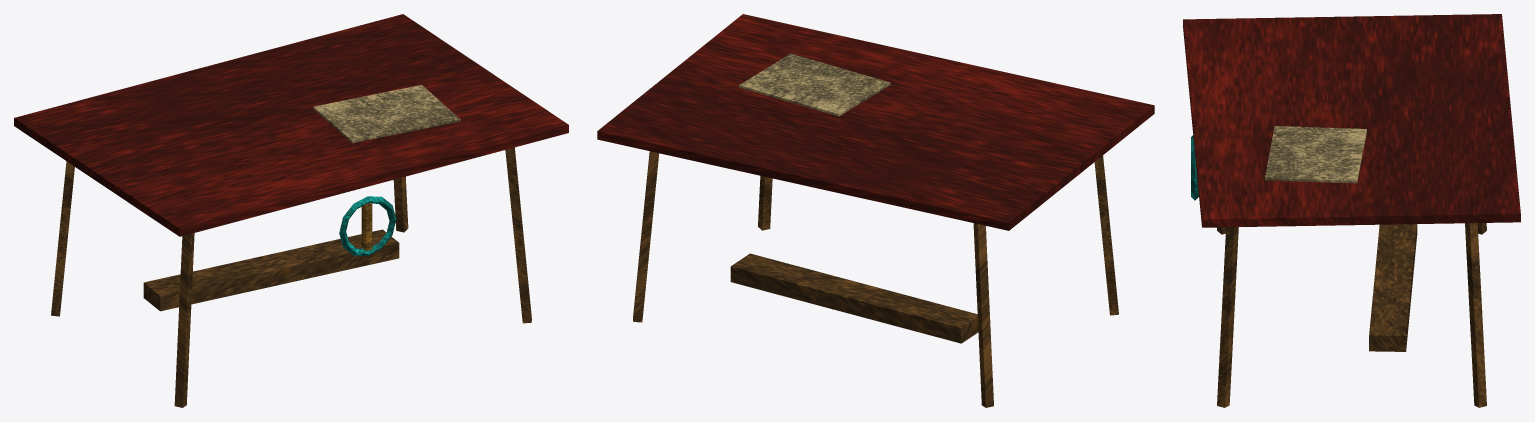
Rendered from mesa-civilian-shade.glb.
3 renders of one model, left to right at view 1: azimuth 30°, elevation 25°; view 2: azimuth 150°, elevation 25°; view 3: azimuth 270°, elevation 25°, orthographic. The views are drawn at different scales.
Visible parts, largest first — view 1: mesa-civilian-shade; view 2: mesa-civilian-shade; view 3: mesa-civilian-shade.
Boxes of the visible parts, x1,y1,x2,y2 form: mesa-civilian-shade: (14, 14, 568, 407); mesa-civilian-shade: (597, 14, 1154, 407); mesa-civilian-shade: (1183, 14, 1520, 407).
Bounding box in the file's own units: 9.44 × 4.39 × 6.56.
1 material, 1 textured.
